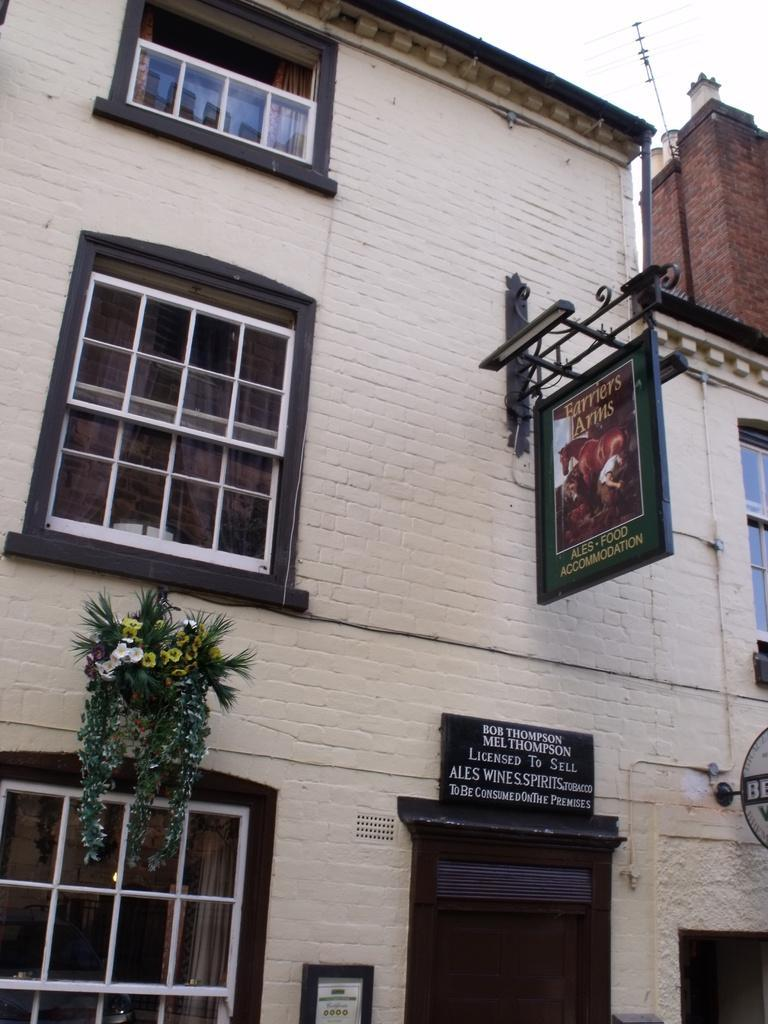door: (447, 912, 587, 1024)
